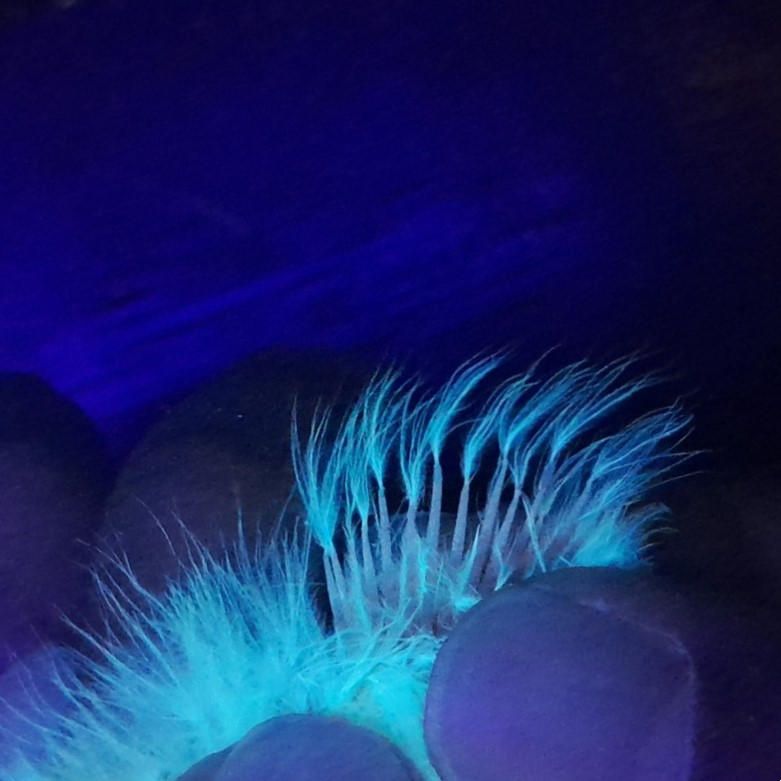male: (300, 447, 625, 709)
